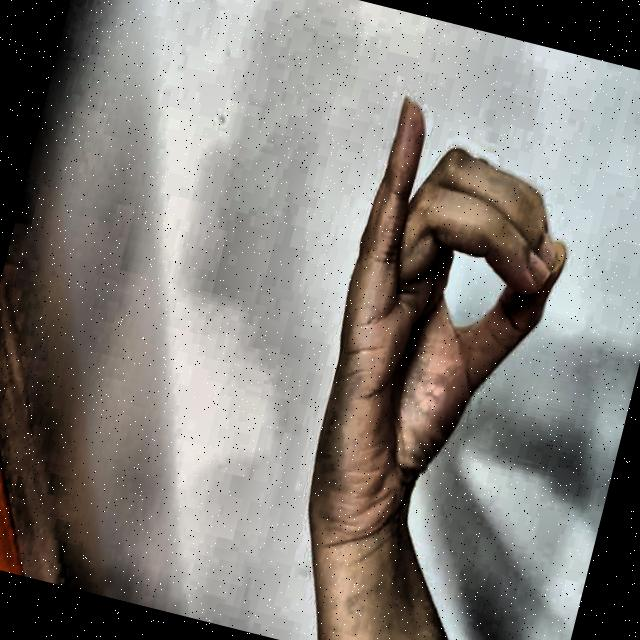Ou: (255, 53, 620, 586)
